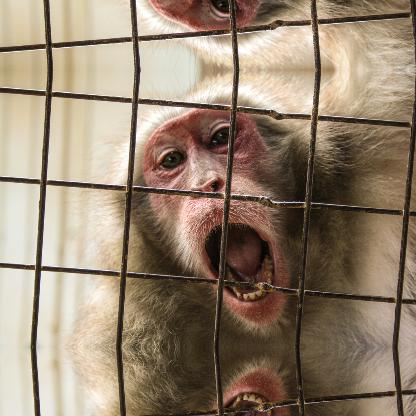Monkey: (63, 69, 414, 346), (63, 0, 415, 70), (63, 346, 415, 415)
